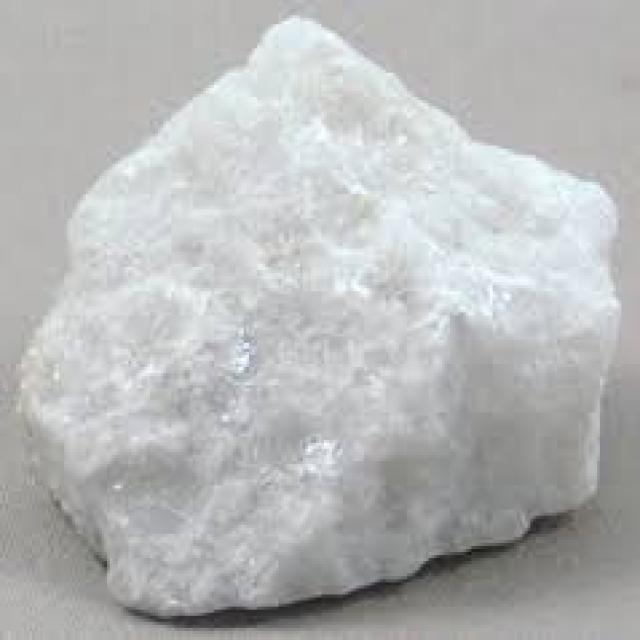Metamorphic: (24, 15, 611, 616)
